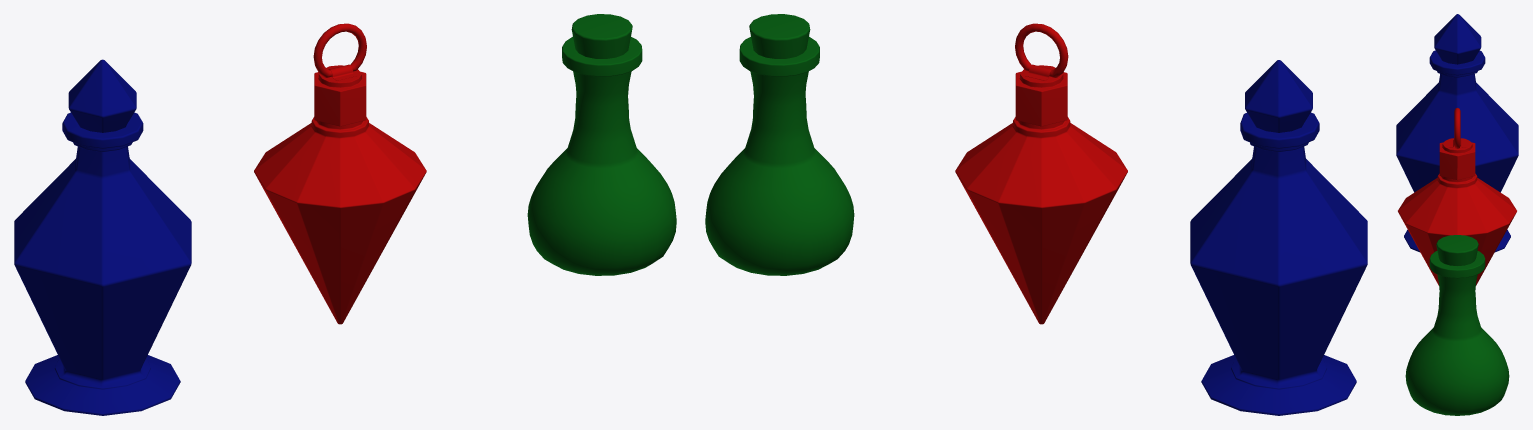
File: Potions.fbx
3 views of the same model, side by side, from view 1: azimuth 30°, elevation 25°; view 2: azimuth 150°, elevation 25°; view 3: azimuth 270°, elevation 25° (orthographic). The views are drawn at different scales.
Parts seen in each view (by area): view 1: Potion_2, Potion_3, Potion_1, Crystal_Stopper, Lid, Cork, RIng; view 2: Potion_2, Potion_3, Potion_1, Crystal_Stopper, Lid, Cork, RIng; view 3: Potion_3, Potion_2, Potion_1, Crystal_Stopper, Lid, Cork, RIng.
Part boxes in pixels (x1,y1,x2,y2): Potion_2: [14, 112, 191, 415]; Potion_3: [527, 36, 676, 275]; Potion_1: [254, 117, 426, 324]; Crystal_Stopper: [68, 59, 136, 132]; Lid: [314, 65, 366, 126]; Cork: [571, 14, 632, 58]; RIng: [313, 23, 366, 77]; Potion_2: [1190, 112, 1367, 415]; Potion_3: [705, 36, 854, 275]; Potion_1: [955, 117, 1127, 324]; Crystal_Stopper: [1245, 60, 1312, 132]; Lid: [1015, 65, 1067, 126]; Cork: [749, 14, 810, 58]; RIng: [1015, 23, 1068, 77]; Potion_3: [1405, 251, 1509, 415]; Potion_2: [1396, 50, 1518, 252]; Potion_1: [1398, 173, 1516, 285]; Crystal_Stopper: [1434, 14, 1481, 64]; Lid: [1439, 138, 1475, 180]; Cork: [1436, 235, 1478, 265]; RIng: [1454, 108, 1460, 148].
Bounding box in the file's own units: 8.67 × 4.1 × 2.04.
